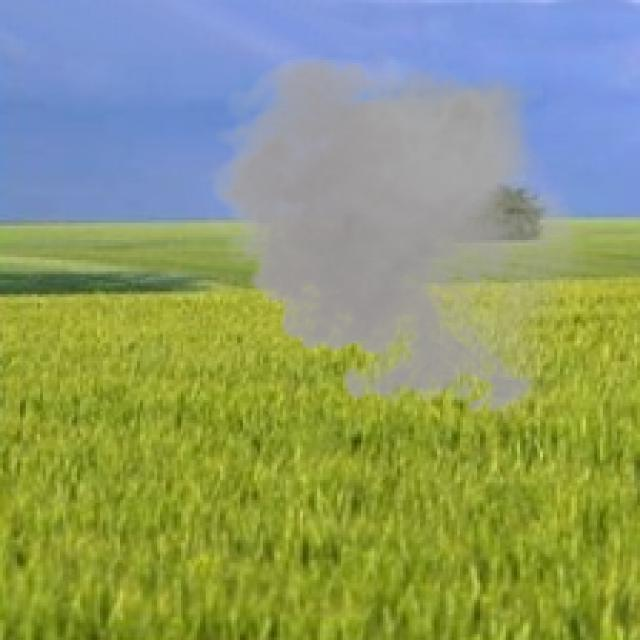Smoke: (197, 43, 597, 426)
